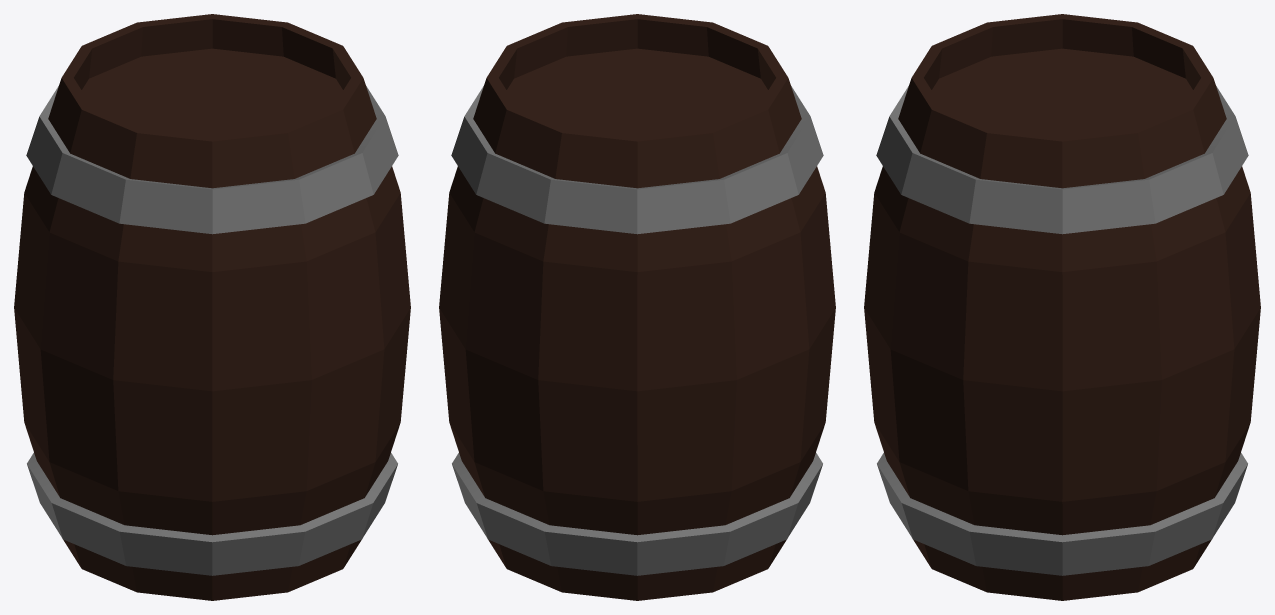
File: SM_barell_01.fbx
The picture shows the model from 3 angles, left to right: view 1: azimuth 30°, elevation 25°; view 2: azimuth 150°, elevation 25°; view 3: azimuth 270°, elevation 25°; orthographic projection.
Visible parts, largest first — view 1: Cylinder040; view 2: Cylinder040; view 3: Cylinder040.
Boxes of the visible parts, left/top/right/bottom form: Cylinder040: left=14, top=14, right=410, bottom=600; Cylinder040: left=439, top=14, right=835, bottom=600; Cylinder040: left=864, top=14, right=1260, bottom=600.
Size of the model in its own units: 30.49 by 38.94 by 30.49.
